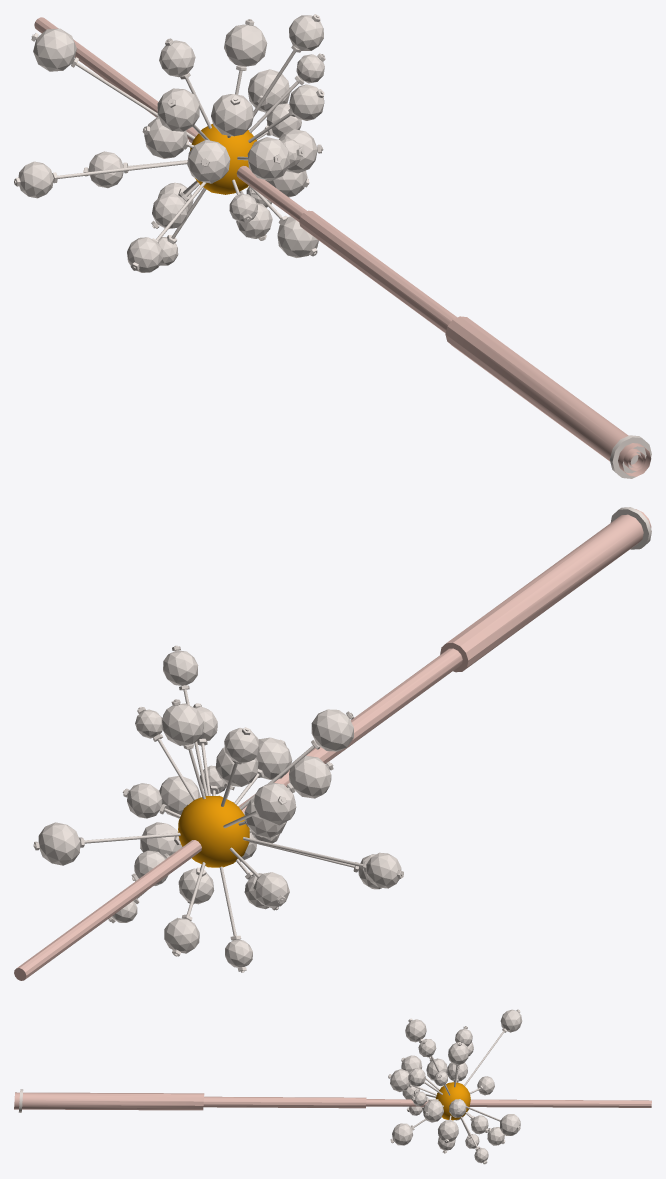
File: branch.011_b.glb
The picture shows the model from 3 angles, top to bottom: view 1: azimuth 30°, elevation 25°; view 2: azimuth 150°, elevation 25°; view 3: azimuth 270°, elevation 25°; orthographic projection. The views are drawn at different scales.
Visible parts, largest first — view 1: Glass.002, MET-59_3D-Model.17664, MET-59_3D-Model.17663, MET-59_3D-Model.17662, MET-59_3D-Model.17665; view 2: Glass.002, MET-59_3D-Model.17664, MET-59_3D-Model.17663, MET-59_3D-Model.17662; view 3: MET-59_3D-Model.17664, Glass.002, MET-59_3D-Model.17663, MET-59_3D-Model.17662.
Part boxes in pixels (<box>): Glass.002: <box>18,15,324,272</box>; MET-59_3D-Model.17664: <box>34,17,651,476</box>; MET-59_3D-Model.17663: <box>14,14,325,270</box>; MET-59_3D-Model.17662: <box>190,124,256,194</box>; MET-59_3D-Model.17665: <box>609,435,651,478</box>; Glass.002: <box>38,650,401,967</box>; MET-59_3D-Model.17664: <box>14,509,651,980</box>; MET-59_3D-Model.17663: <box>33,645,403,972</box>; MET-59_3D-Model.17662: <box>178,795,249,867</box>; MET-59_3D-Model.17664: <box>14,1092,651,1110</box>; Glass.002: <box>390,1009,522,1163</box>; MET-59_3D-Model.17663: <box>388,1009,520,1164</box>; MET-59_3D-Model.17662: <box>435,1082,470,1120</box>.
Bounding box in the file's own units: 0.1977 × 0.1556 × 0.6553.
